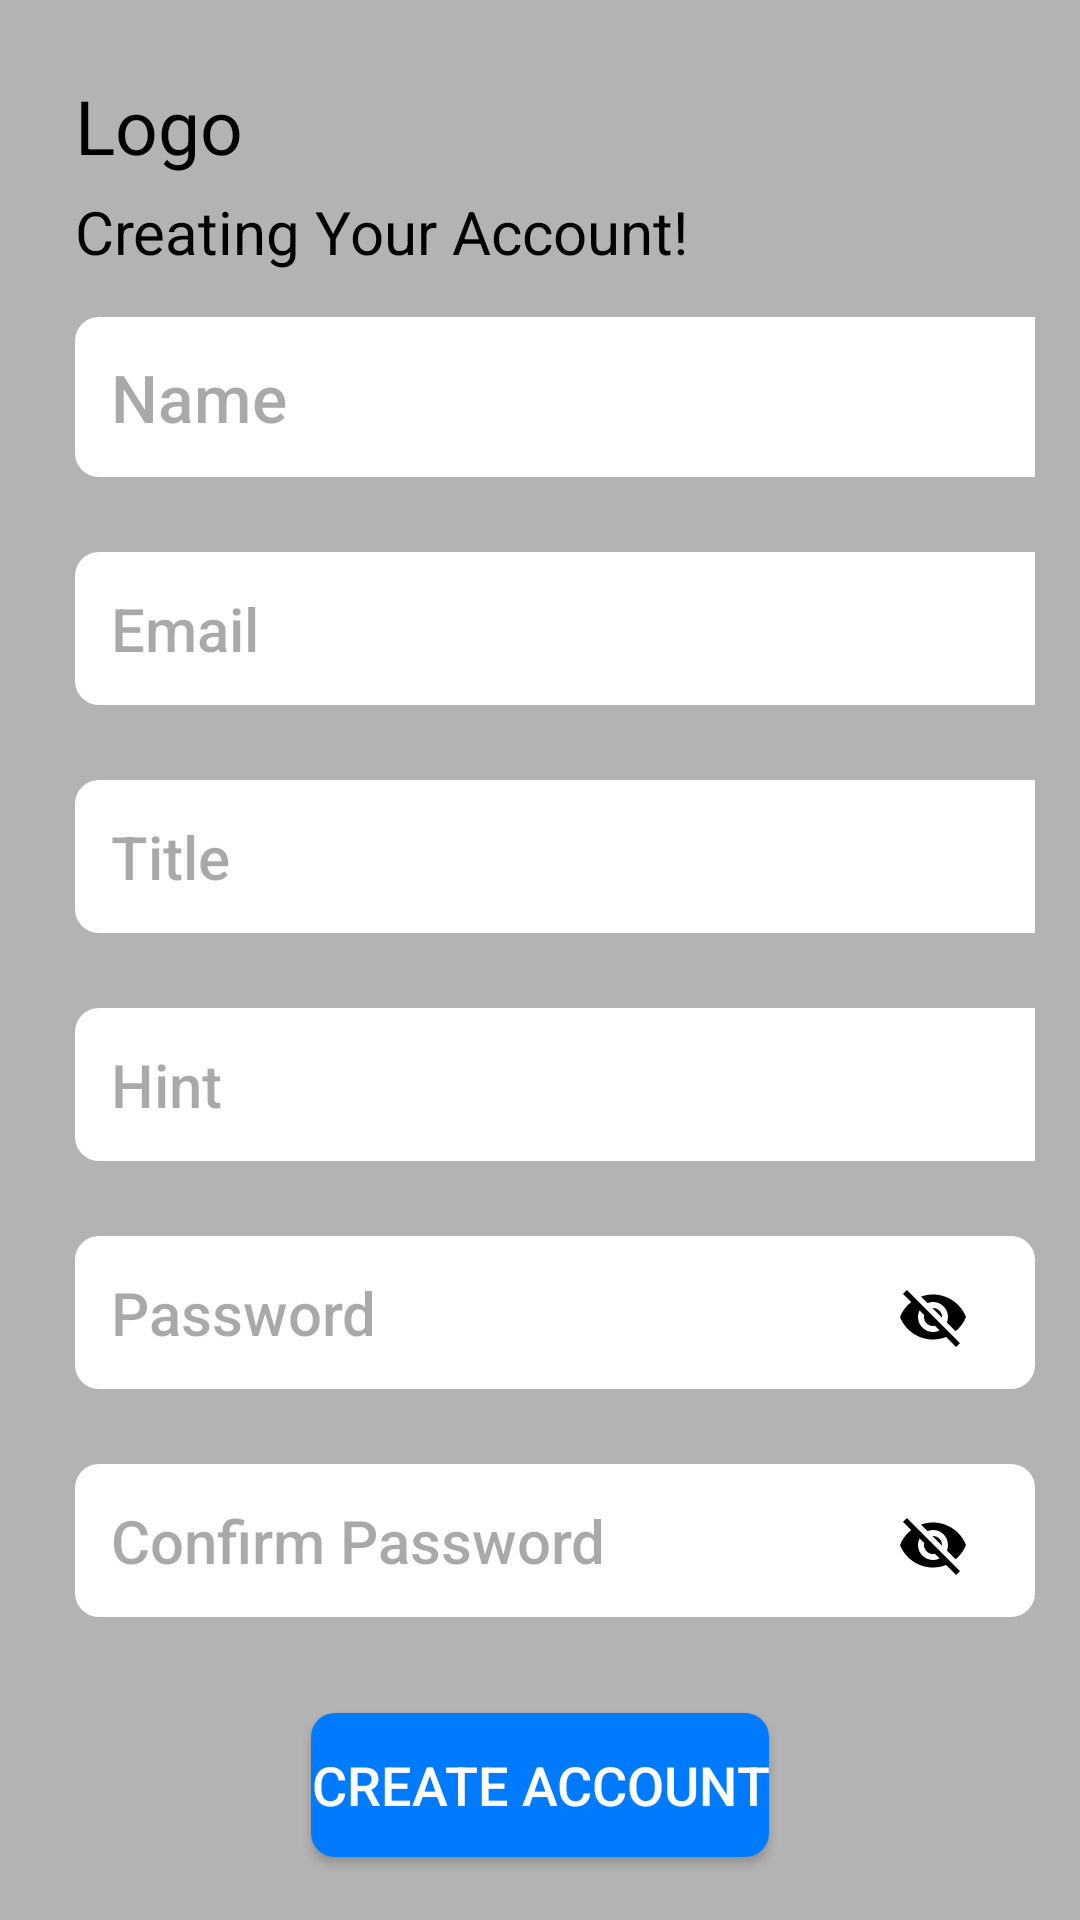

Named icons in this screenshot (1080 x 1920) and their centers, (x=x, y=y):
visibility off: (x=933, y=1318), (x=933, y=1546)
